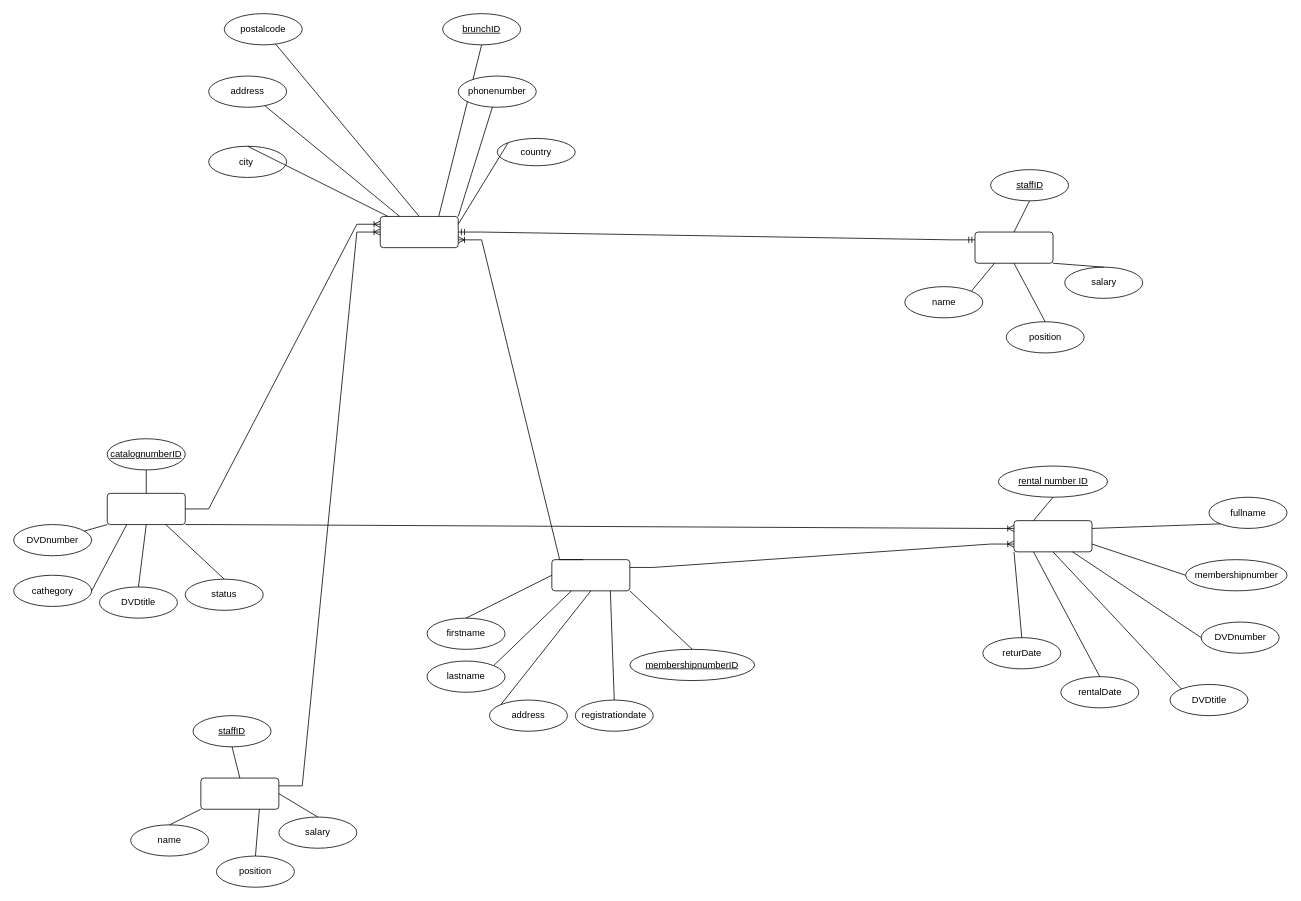
Some shapes in this 1301 by 901 pixel diagram are drawn without their labels. Each missing label, with the box of its shape:
Brunch: (379, 216, 458, 248)
DVD: (106, 493, 185, 525)
Manager: (974, 231, 1053, 263)
Member: (551, 559, 630, 591)
Rental: (1013, 520, 1092, 552)
Staff: (200, 777, 279, 809)
